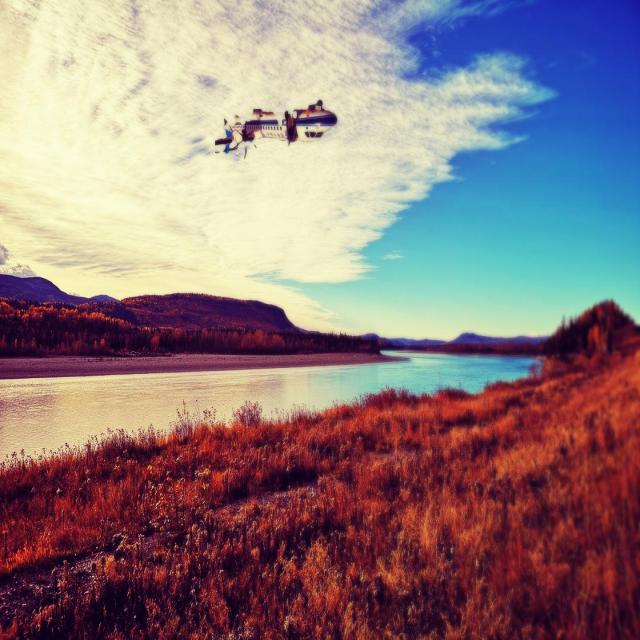airplane: (214, 98, 337, 159)
